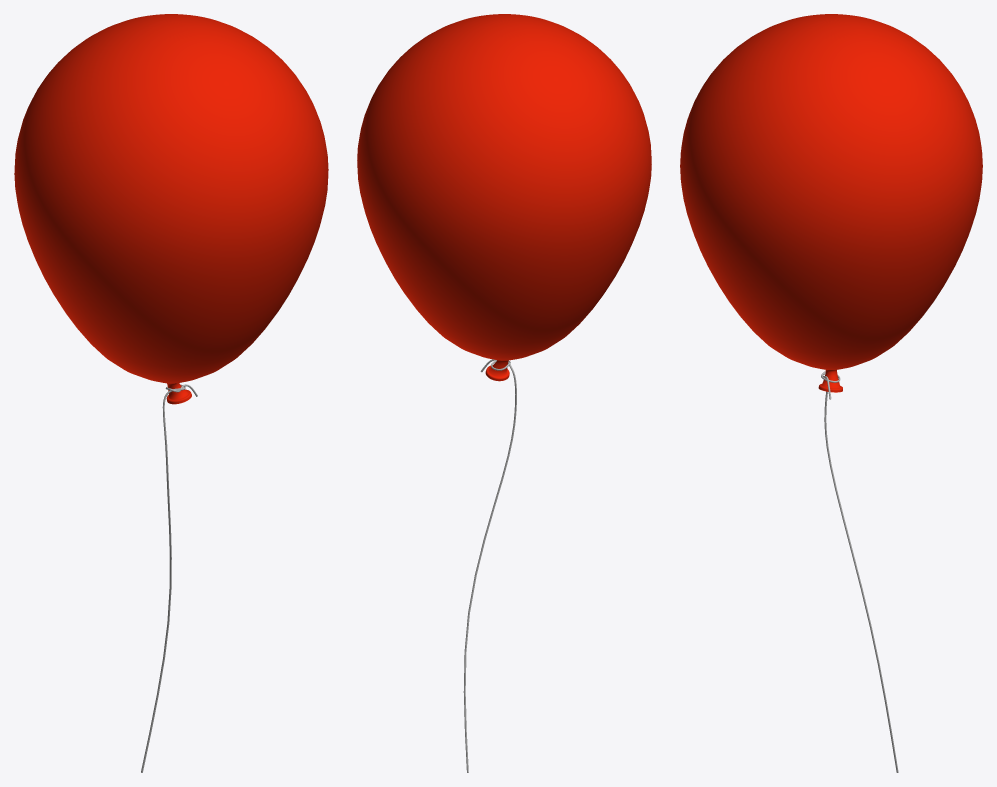
The picture shows the model from 3 angles, left to right: view 1: azimuth 30°, elevation 25°; view 2: azimuth 150°, elevation 25°; view 3: azimuth 270°, elevation 25°; orthographic projection. The views are drawn at different scales.
Visible parts, largest first — view 1: balloon, string; view 2: balloon, string; view 3: balloon, string.
Boxes of the visible parts, x1=… form: balloon: x1=14, y1=14, x2=328, y2=404; string: x1=141, y1=384, x2=197, y2=772; balloon: x1=357, y1=14, x2=651, y2=381; string: x1=463, y1=359, x2=516, y2=772; balloon: x1=680, y1=14, x2=982, y2=392; string: x1=821, y1=371, x2=898, y2=772.
Size of the model in its own units: 1.98 by 5.36 by 1.98.
